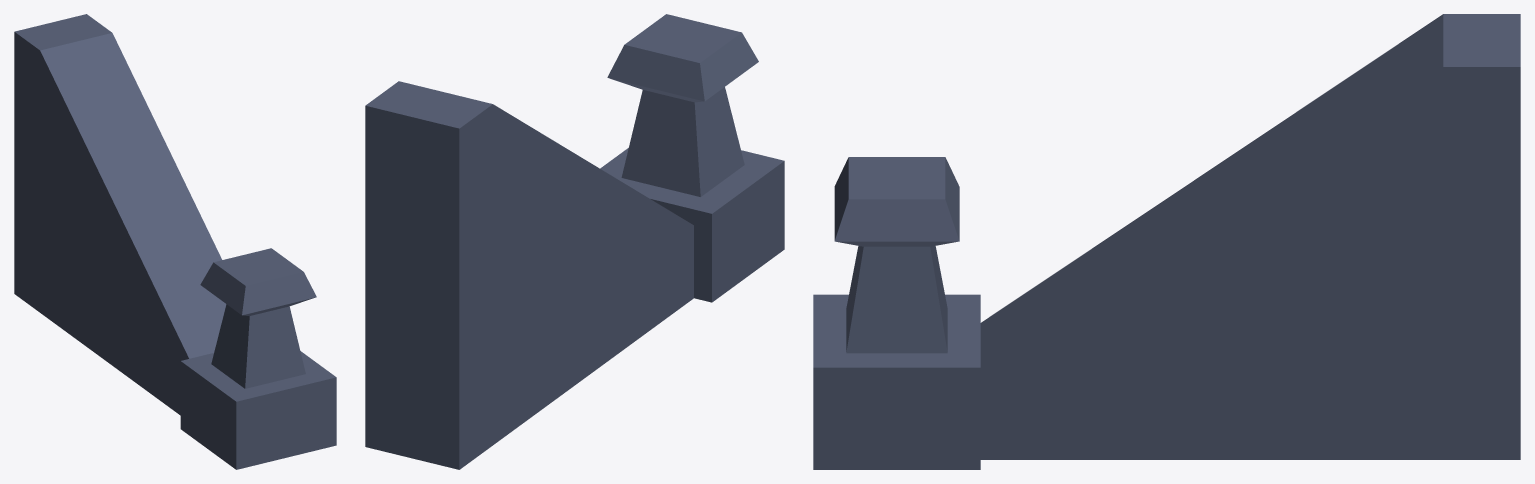
The model's file is stairs handhail small.fbx.
3 renders of one model, left to right at view 1: azimuth 30°, elevation 25°; view 2: azimuth 150°, elevation 25°; view 3: azimuth 270°, elevation 25°, orthographic. The views are drawn at different scales.
Parts seen in each view (by area): view 1: stairs handhail small; view 2: stairs handhail small; view 3: stairs handhail small.
Part boxes in pixels (x1,y1,x2,y2): stairs handhail small: [14, 14, 336, 469]; stairs handhail small: [365, 14, 784, 469]; stairs handhail small: [813, 14, 1520, 469].
Size of the model in its own units: 71.81 by 180 by 293.
